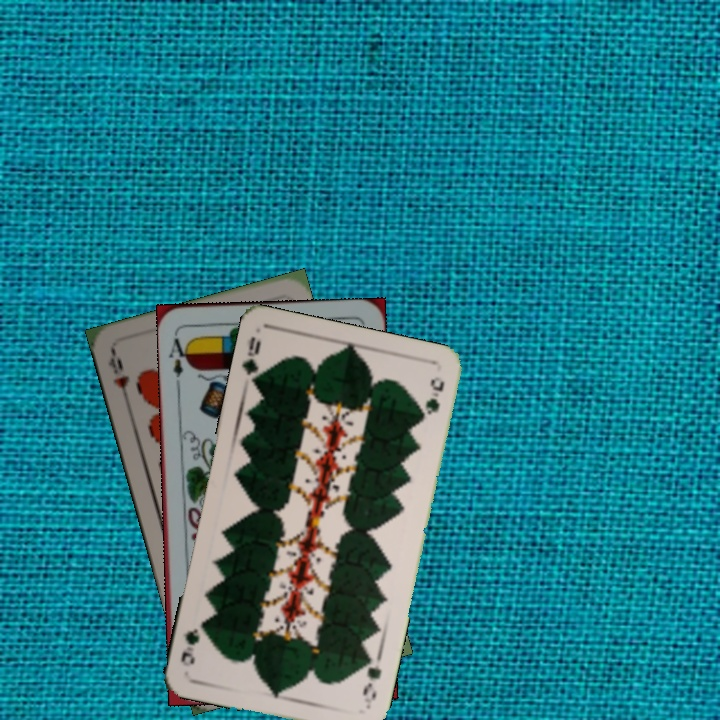EA: (165, 334, 192, 380)
G9: (358, 651, 384, 711), (238, 332, 264, 390)
H9: (104, 347, 132, 406)
